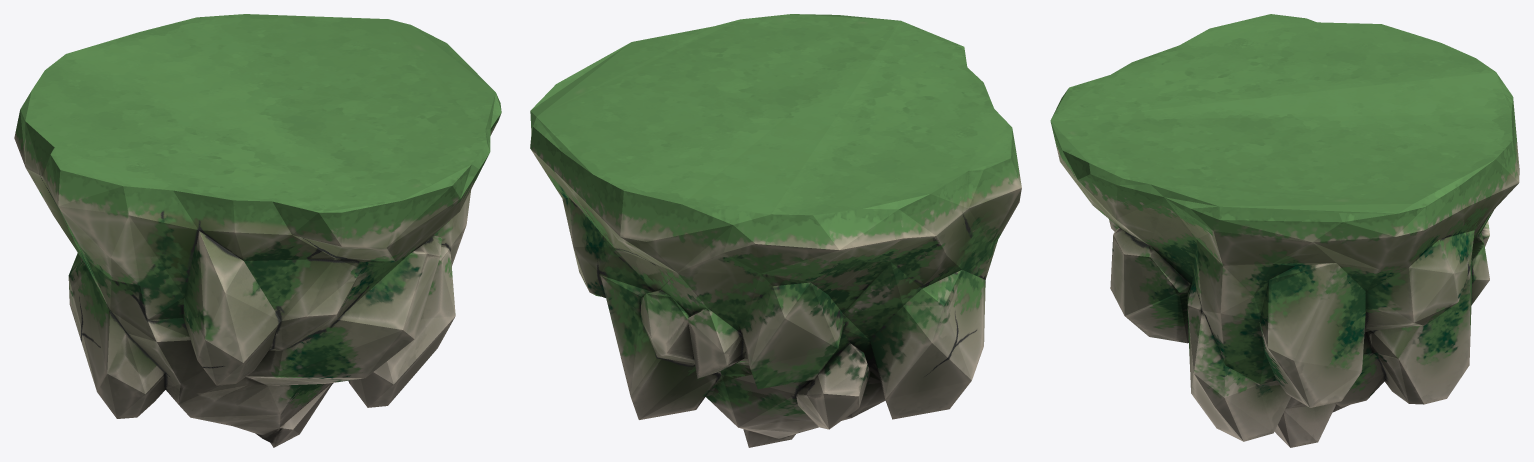
File: floating island.fbx
3 views of the same model, side by side, from view 1: azimuth 30°, elevation 25°; view 2: azimuth 150°, elevation 25°; view 3: azimuth 270°, elevation 25° (orthographic). The views are drawn at different scales.
Visible parts, largest first — view 1: island lowpoly ultra.007; view 2: island lowpoly ultra.007; view 3: island lowpoly ultra.007.
Boxes of the visible parts, left/top/right/bottom form: island lowpoly ultra.007: left=14, top=14, right=501, bottom=447; island lowpoly ultra.007: left=530, top=14, right=1021, bottom=447; island lowpoly ultra.007: left=1050, top=14, right=1519, bottom=447.
Bounding box in the file's own units: 1151 × 850 × 1132.
